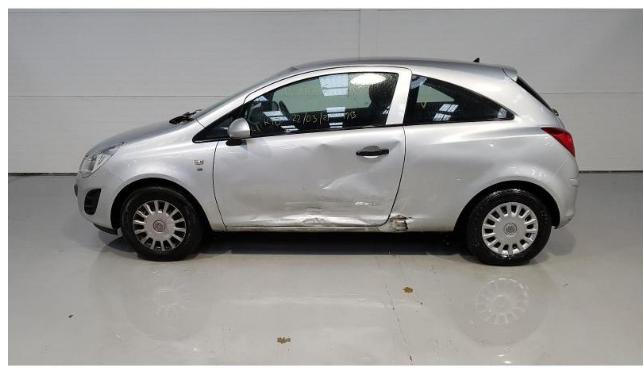Back-bumper: (543, 153, 579, 229)
Back-wheel: (467, 185, 551, 266)
Back-window: (403, 75, 518, 125)
Back-windshield: (517, 76, 559, 117)
Fender: (101, 120, 227, 232)
Front-bumper: (76, 166, 125, 236)
Front-door: (213, 67, 411, 227)
Front-wheel: (121, 186, 204, 261)
Front-window: (193, 72, 399, 142)
Headlight: (79, 143, 124, 178)
Hood: (85, 113, 196, 155)
License-plate: (73, 184, 78, 197)
Mirror: (226, 118, 250, 146)
Quarter-panel: (385, 113, 571, 226)
Rocker-panel: (226, 224, 454, 233)
Roof: (292, 56, 504, 78)
Tail-light: (541, 126, 575, 157)
Trunk: (501, 64, 518, 83)
Windshield: (191, 67, 298, 119)
